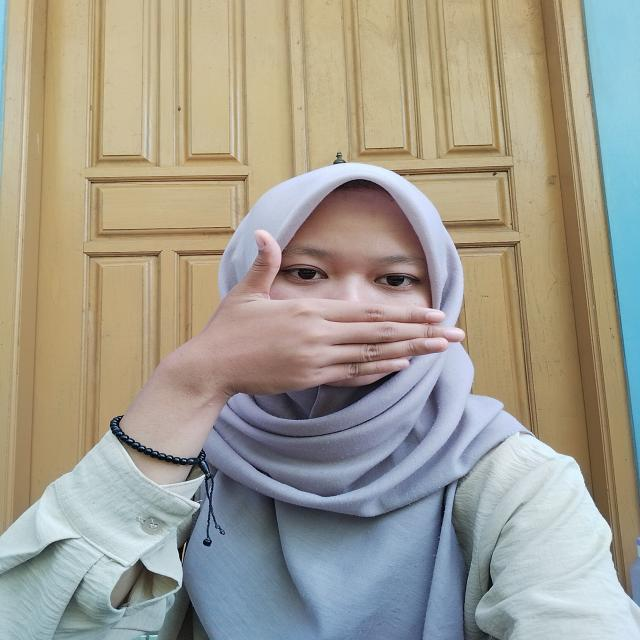buruk: (126, 233, 474, 404)
